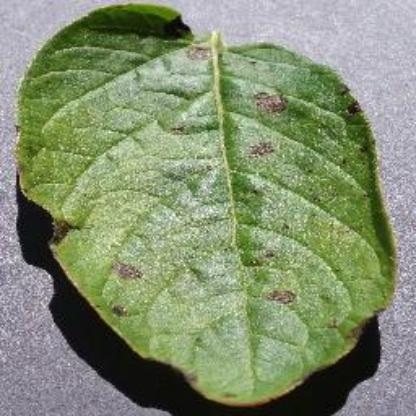Early-Blight: (14, 0, 402, 408)
